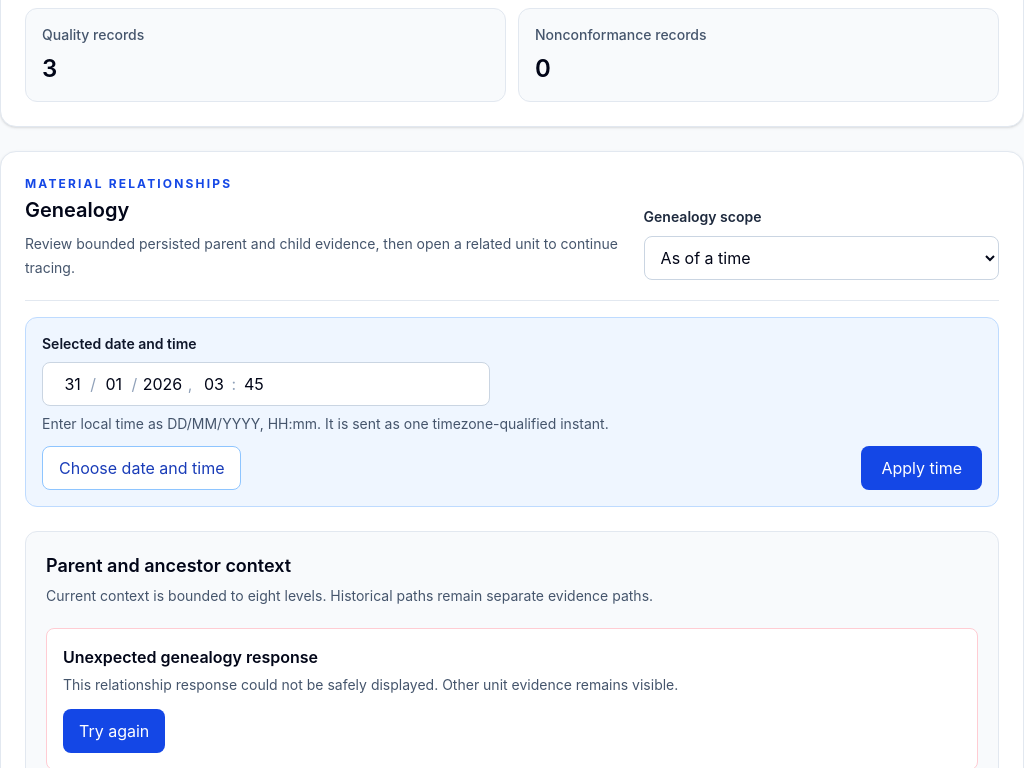
Test case: traceability unit detail and genealogy › edits each manual segment independently and clamps impossible calendar combinations
(page scrolled)
Expected: the element named "Selected date and time" reads "/ / , :", [42, 362, 490, 406]
Replace the text in the field named "Year" with "2027" at (162, 384), box [137, 371, 188, 397]
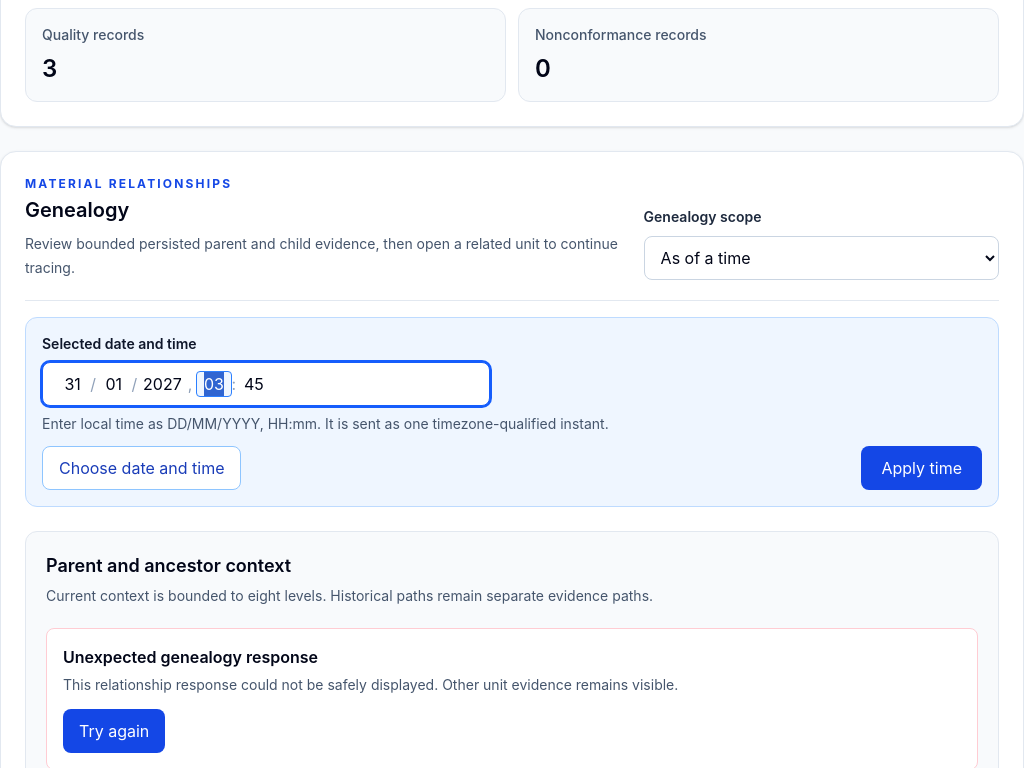
Replace the text in the field named "Month" with "02" at (114, 384), box [96, 371, 131, 397]
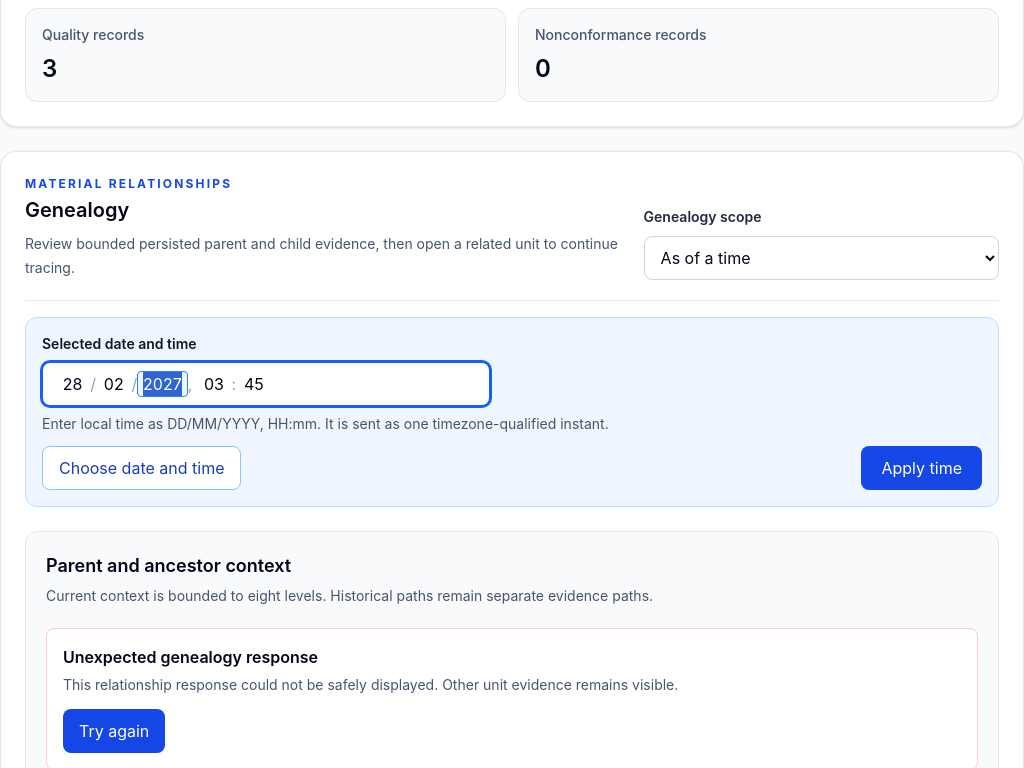
Now the field named "Day" holds "28"
Replace the text in the field named "Day" with "14" at (73, 384), box [55, 371, 90, 397]
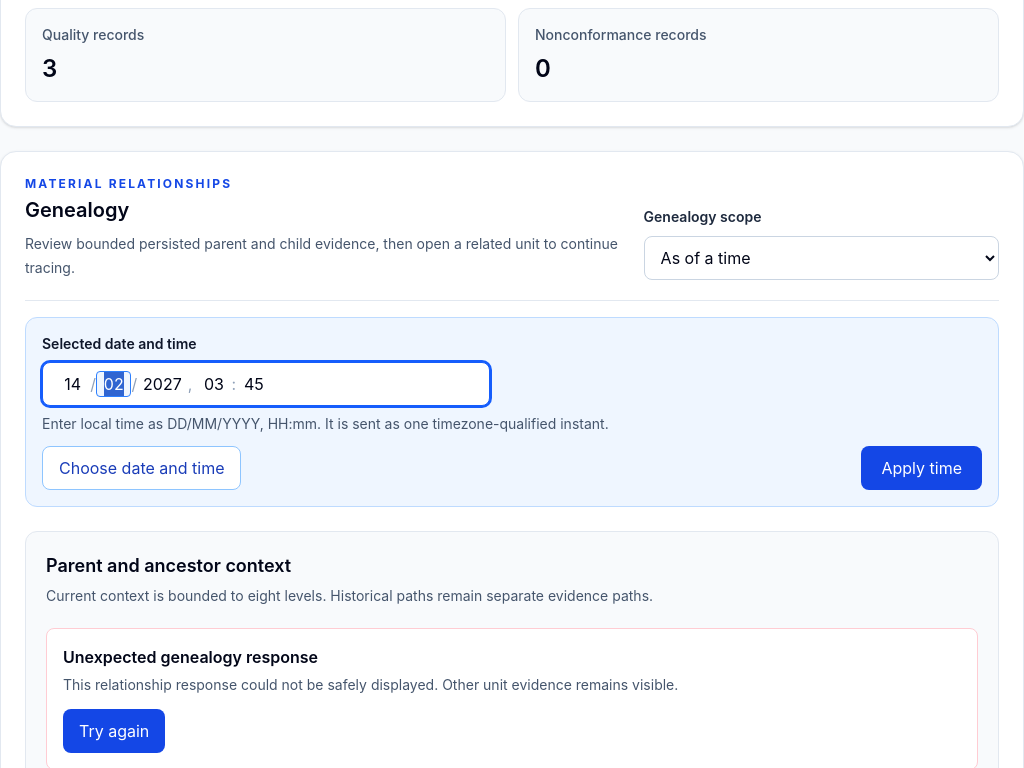
Replace the text in the field named "Hour" with "09" at (214, 384), box [196, 371, 232, 397]
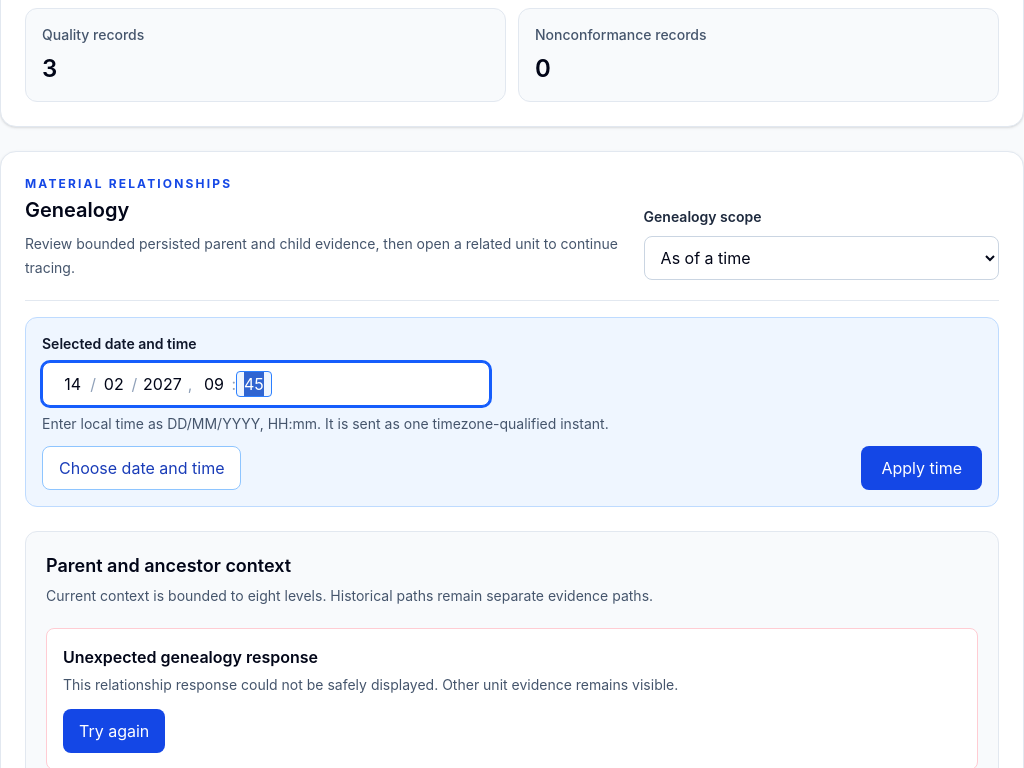
Replace the text in the field named "Minute" with "05" at (254, 384), box [236, 371, 272, 397]
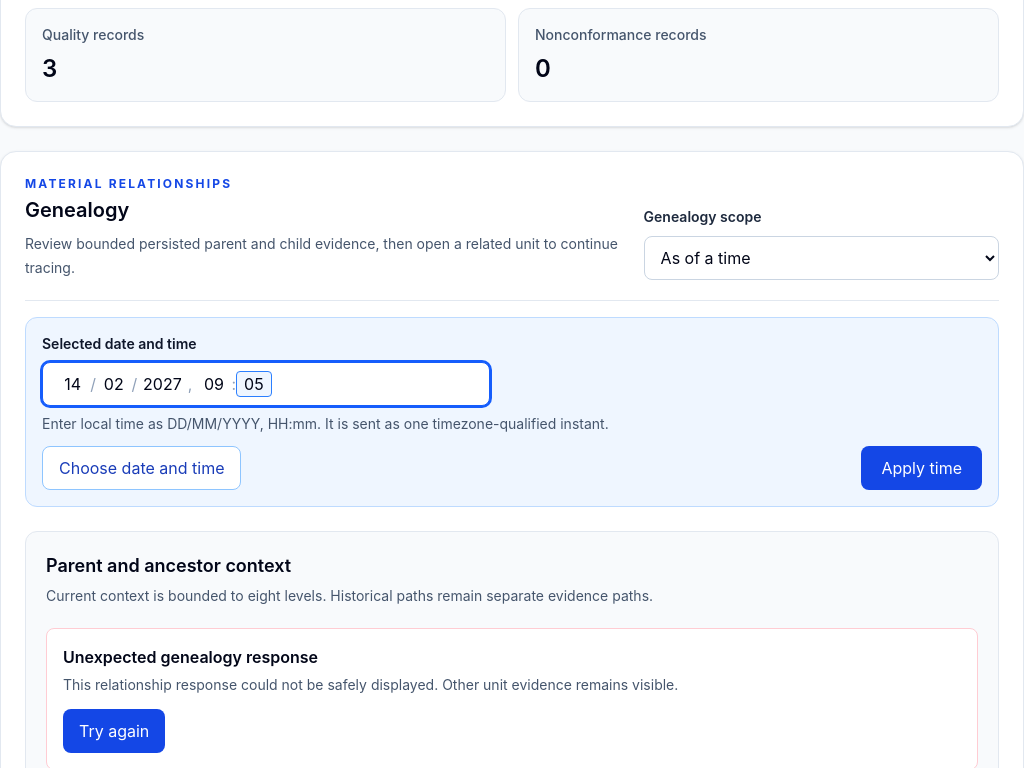
Click the button "Choose date and time" at (142, 468), box [42, 446, 242, 490]
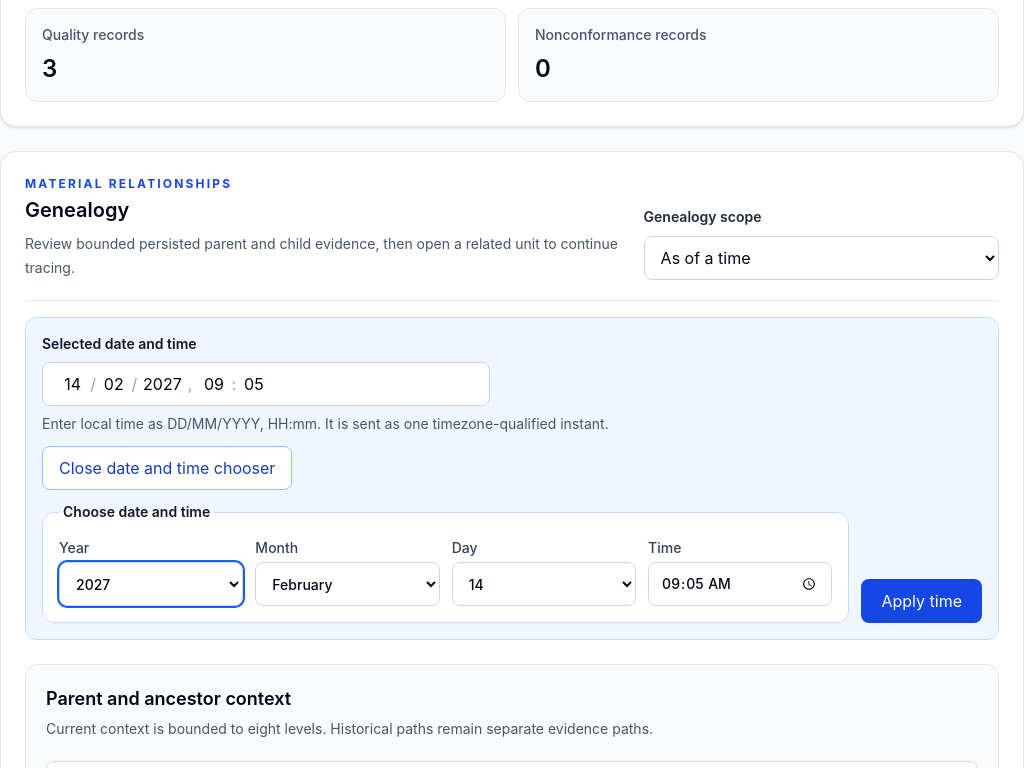
Now the dropdown labelled "Year" shows "2027", box [59, 562, 243, 606]
Now the dropdown labelled "Month" shows "February", box [255, 562, 440, 606]
Now the dropdown labelled "Day" shows "14", box [452, 562, 636, 606]
